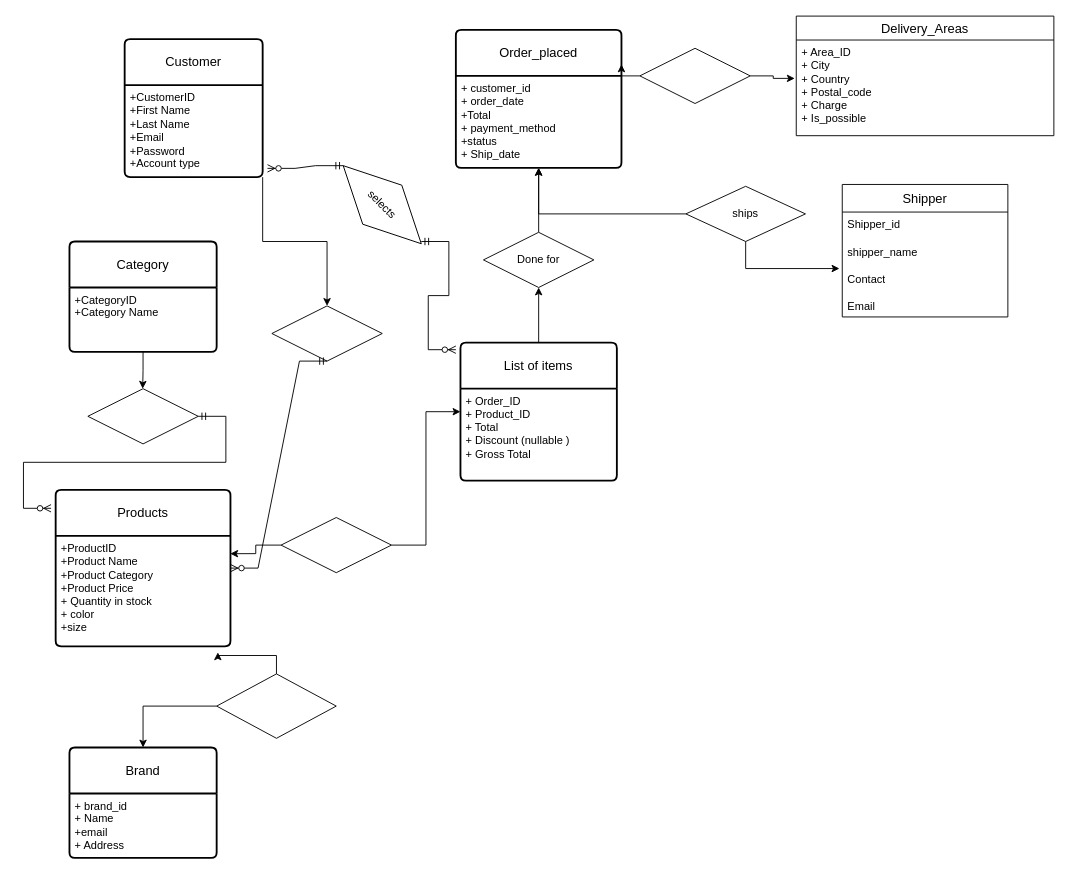
This 1070x875 diagram has some shape labels left out. The shapes that lost their labels are listed below. From the top down, each one's centre as x and y in pixels, then its label:
At pixel 694 75: "is_Checked_for".
At pixel 326 333: "Buys".
At pixel 142 416: "Has".
At pixel 335 545: "Added to".
At pixel 276 705: "Supplies".
